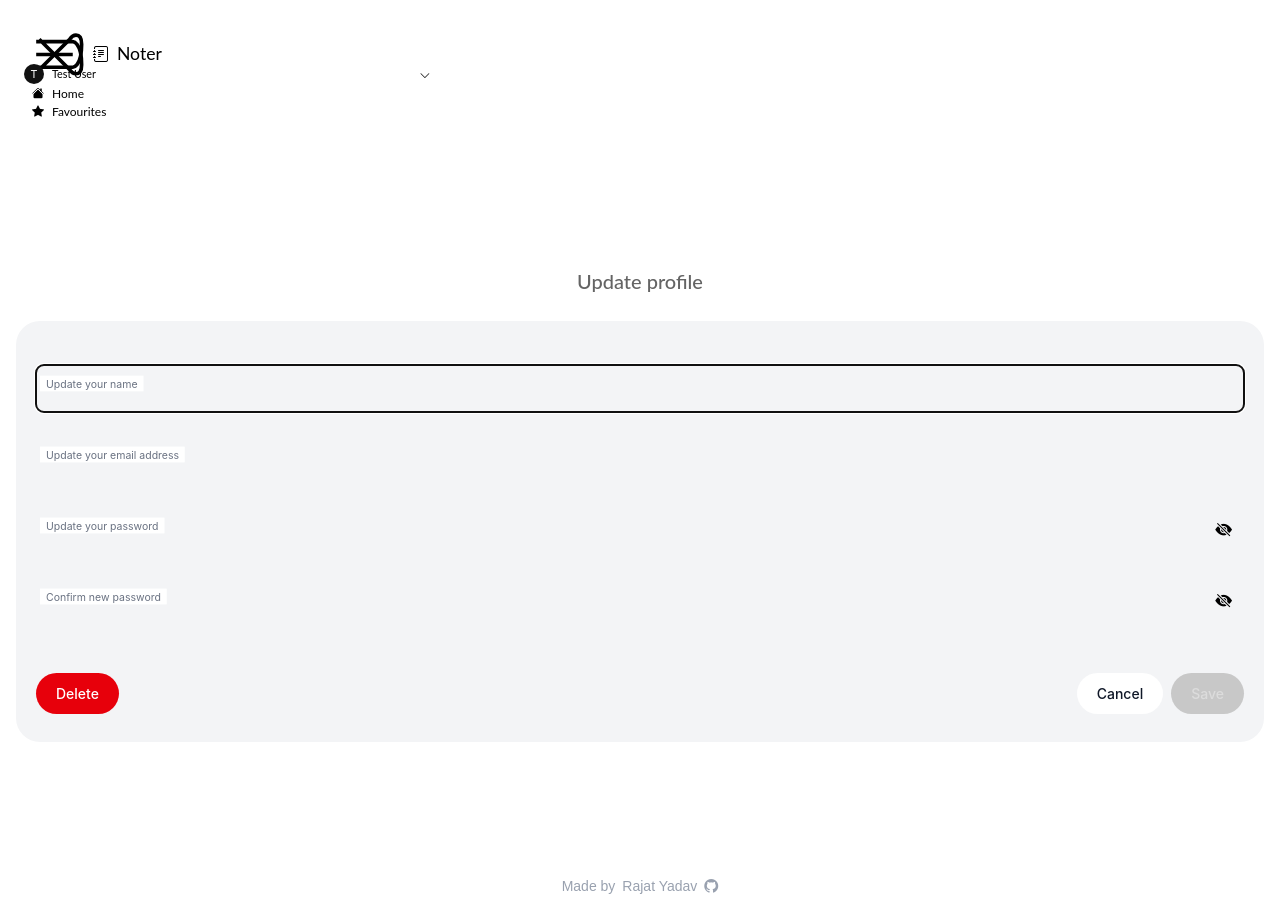
Test case: UserProfileEdit page › handles API errors gracefully
This screenshot has width=1280, height=900.
Type "Updated Test User" into the field labelled "Update your name" at [640, 388], box [36,365,1244,412]
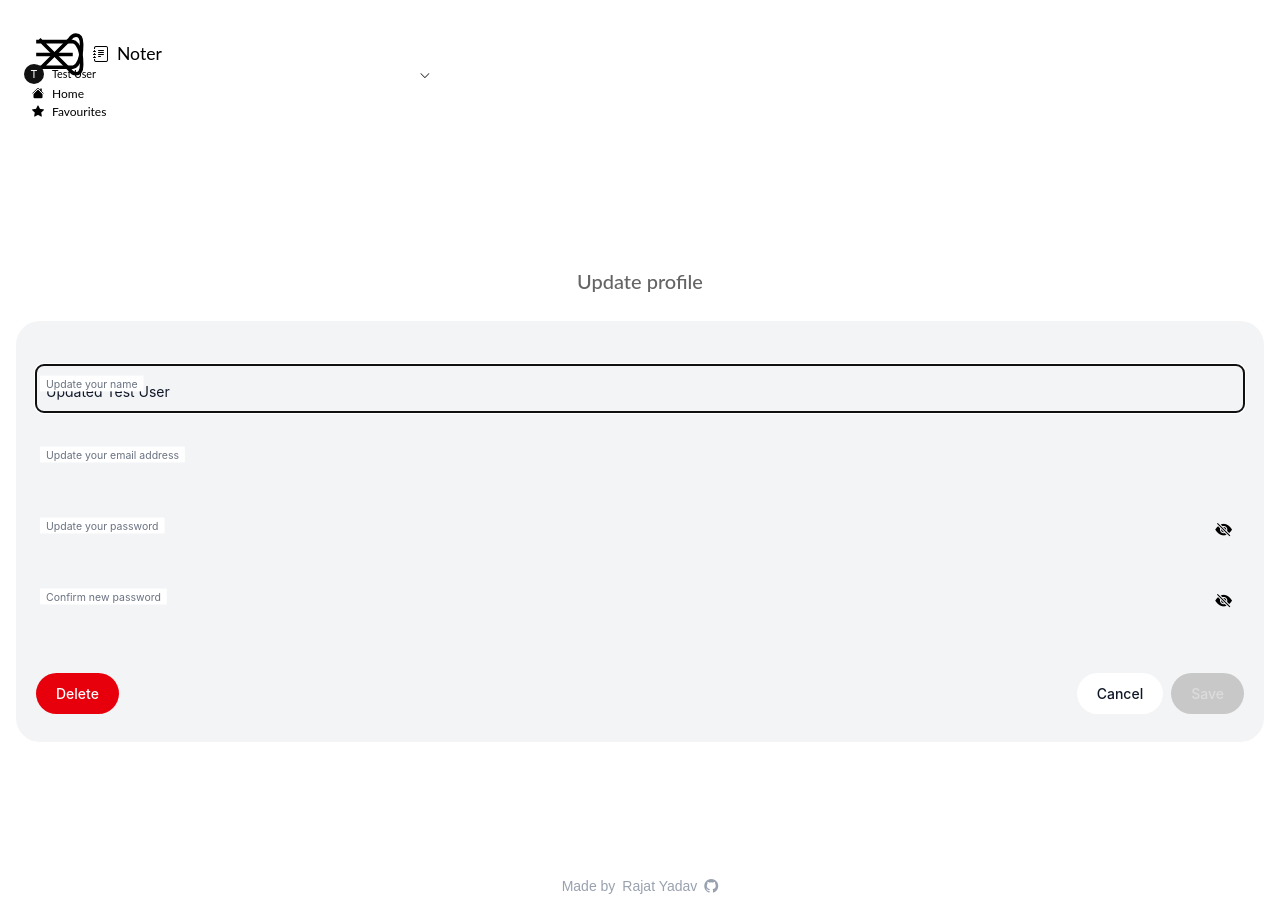
Type "updatedtestuser@example.com" into the field labelled "Update your email address" at [640, 459], box [36,436,1244,483]
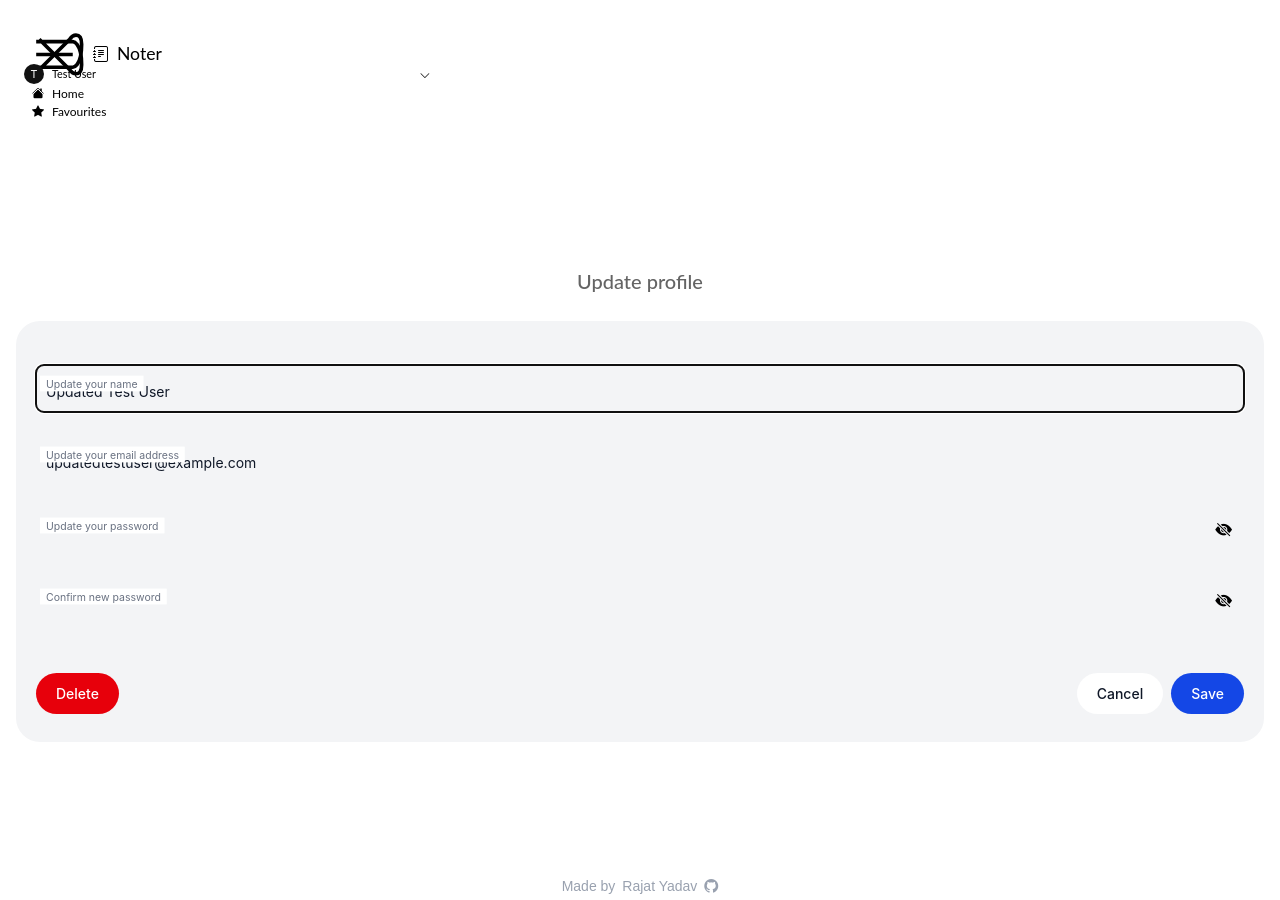
Click the button "Save" at [1208, 694], box [1171,674,1244,714]
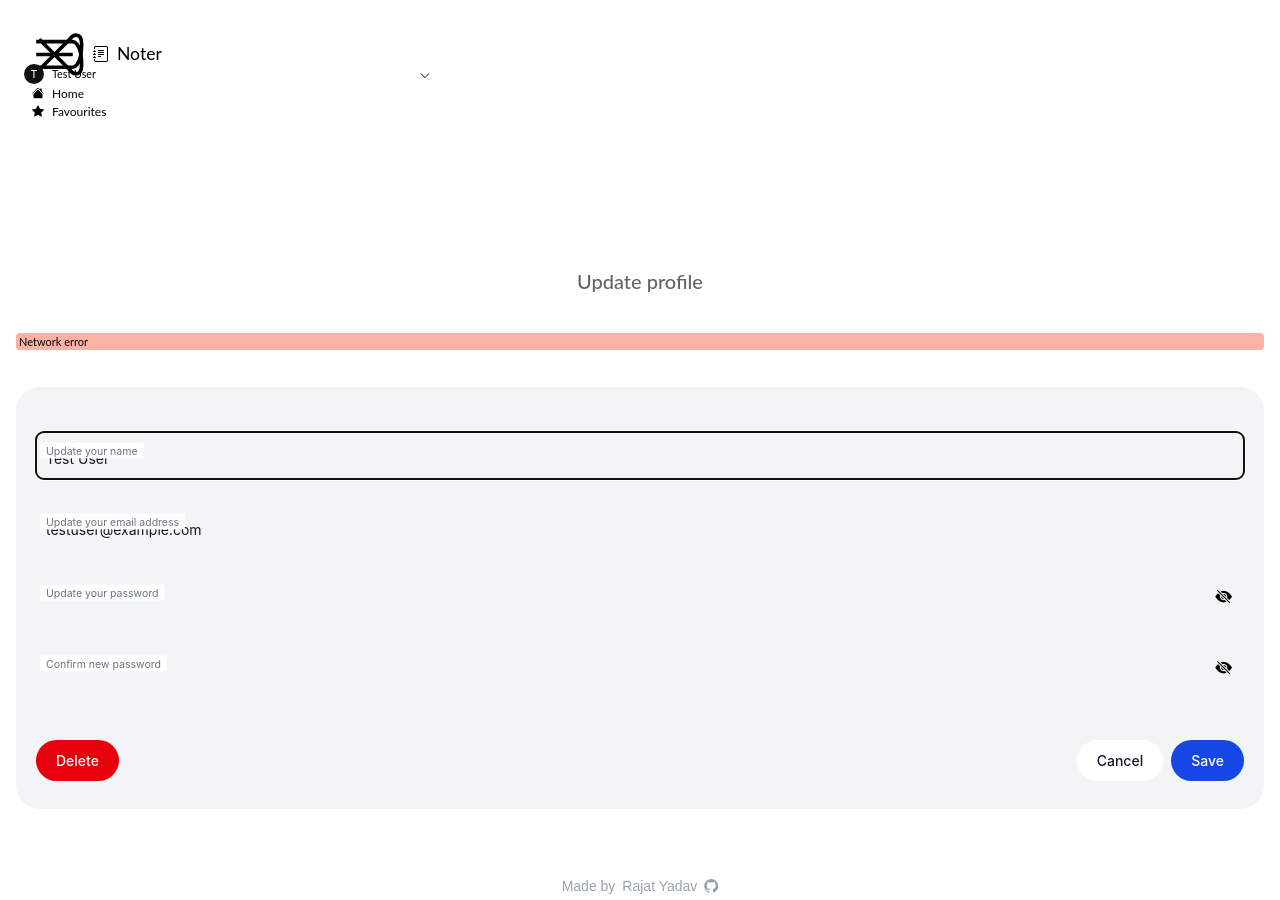
expect the text "Network error" is shown: met, box [16,333,1264,350]
